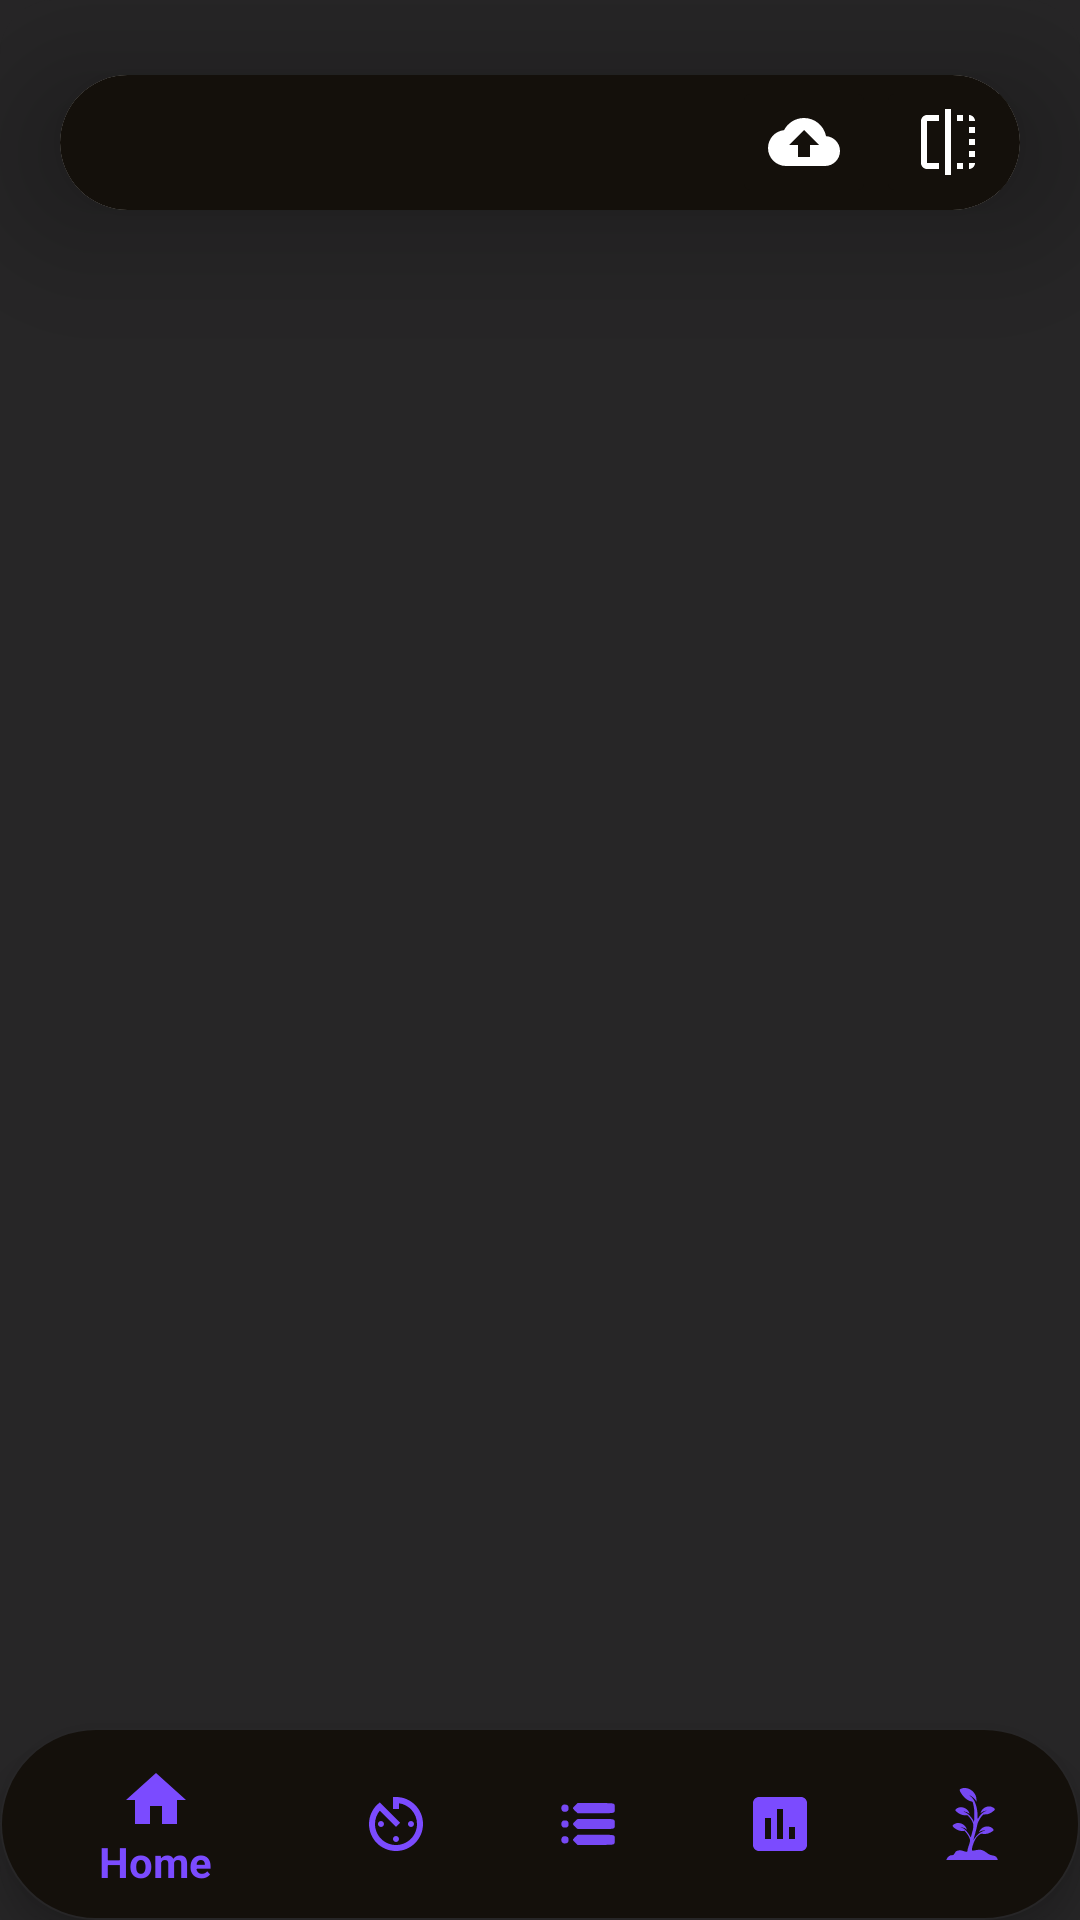

Icons on this 1080 x 1920 Android screen, each with its box as (x1, y1, x2, y2):
backup: (768, 118, 840, 166)
flip: (921, 76, 1020, 208)
